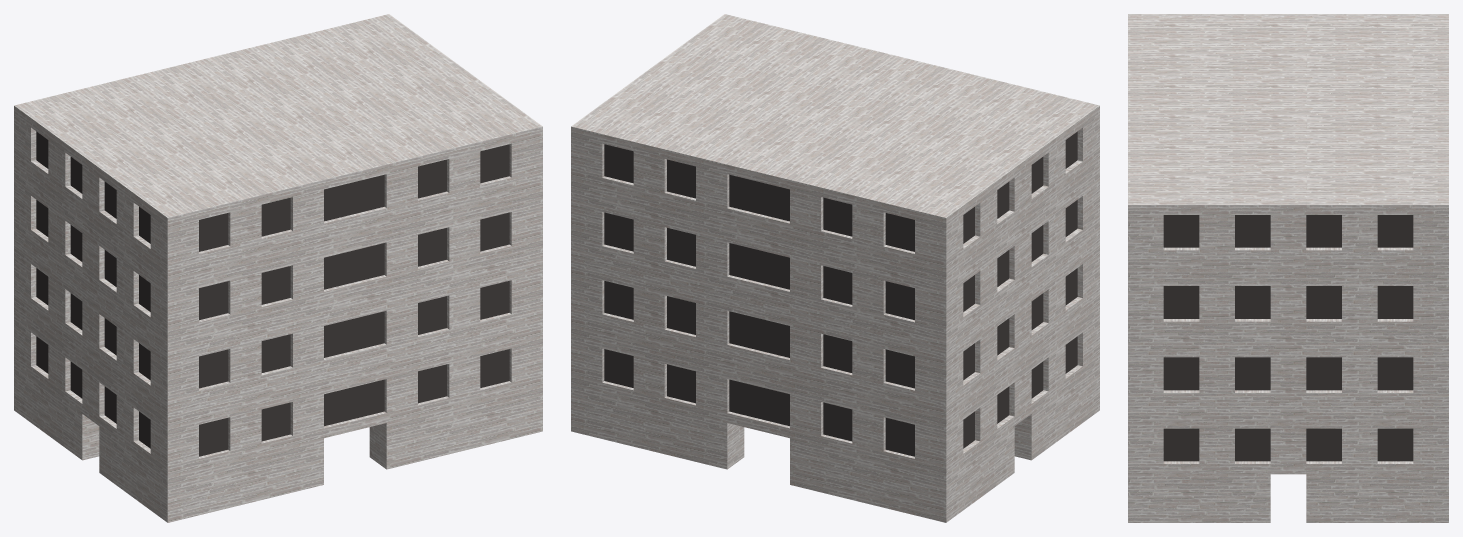
Rendered from Building_BigX.glb.
3 renders of one model, left to right at view 1: azimuth 30°, elevation 25°; view 2: azimuth 150°, elevation 25°; view 3: azimuth 270°, elevation 25°, orthographic. The views are drawn at different scales.
Parts seen in each view (by area): view 1: BigX; view 2: BigX; view 3: BigX.
Boxes of the visible parts, x1=… form: BigX: x1=14, y1=14, x2=542, y2=522; BigX: x1=571, y1=14, x2=1099, y2=522; BigX: x1=1128, y1=14, x2=1448, y2=522.
Bounding box in the file's own units: 51.11 × 39.7 × 36.29.
3 materials, 1 textured.
